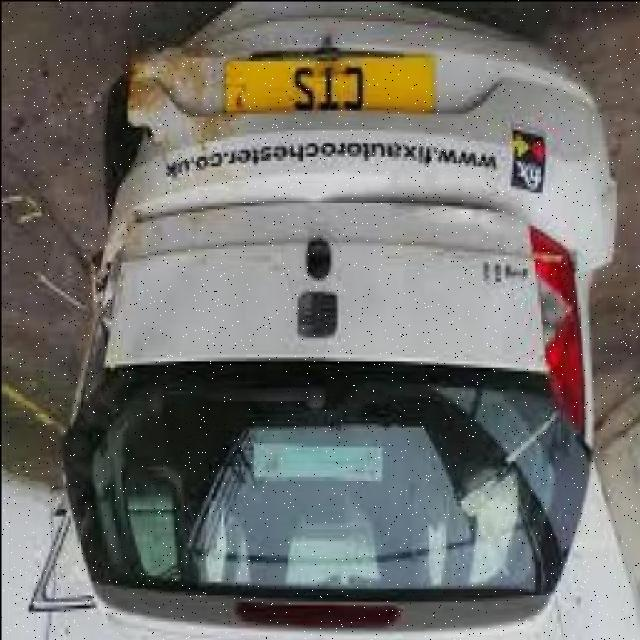damage: (53, 35, 215, 475)
